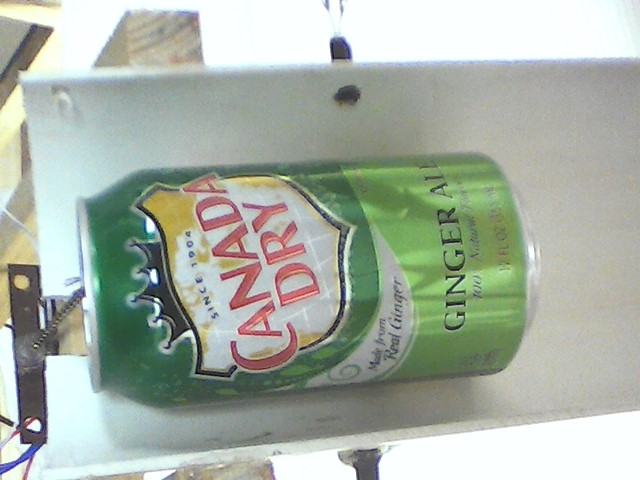lata: (70, 148, 545, 412)
